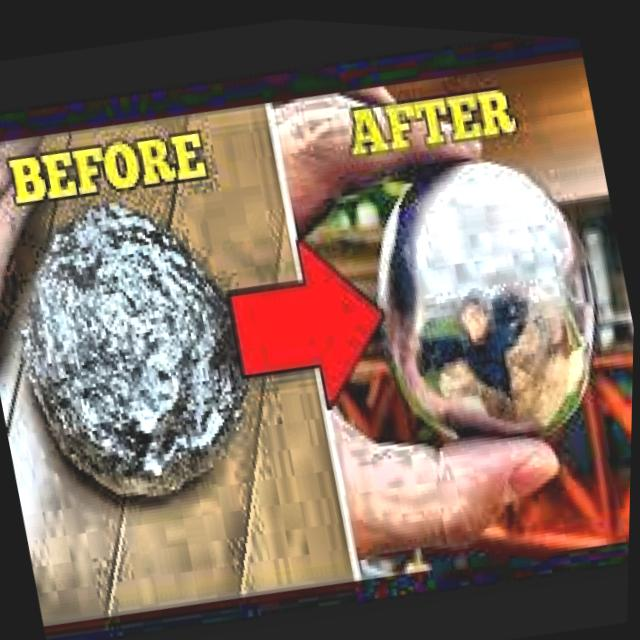Foil: (0, 167, 298, 536)
